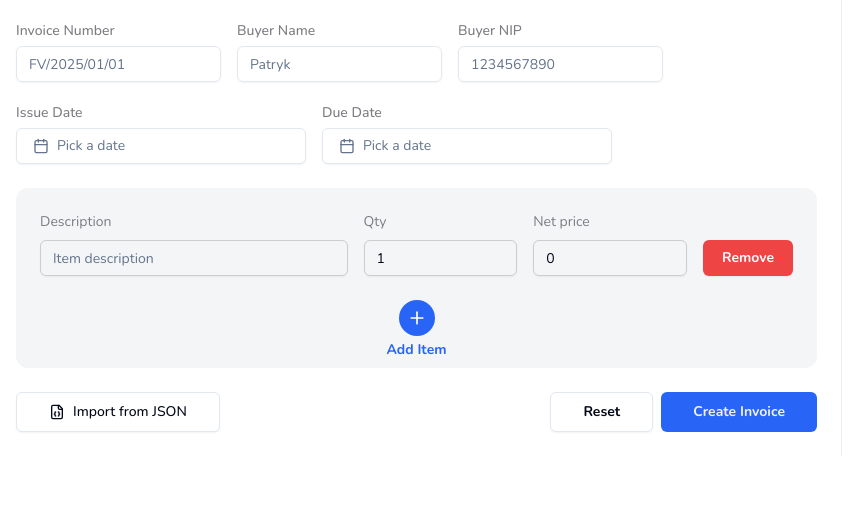
it: InvoiceForm › adds and removes items
The width and height of the screenshot is (859, 517).
Click the 4th button. click: {"x": 416, "y": 318}
box: top-left (398, 300), bottom-right (434, 336)
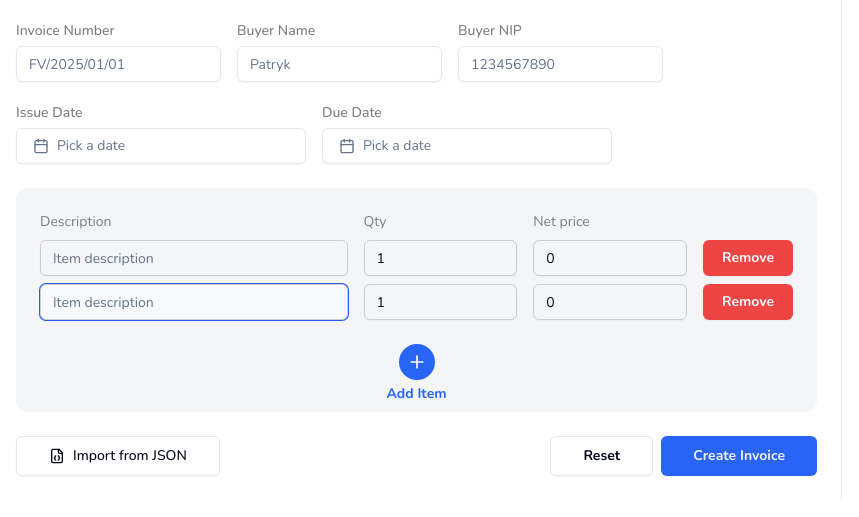
Click the 1st button "Remove". click: {"x": 748, "y": 258}
box: top-left (703, 240), bottom-right (793, 276)
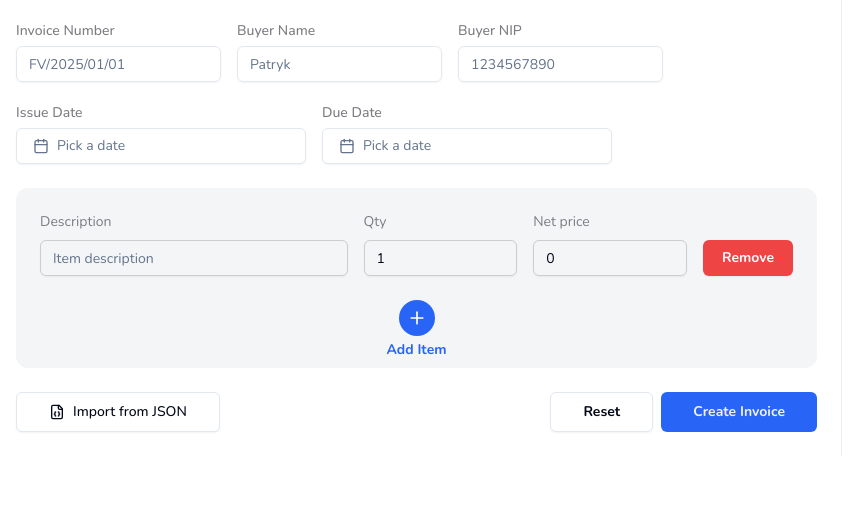
Click the button "Remove". click: {"x": 748, "y": 258}
box: top-left (703, 240), bottom-right (793, 276)
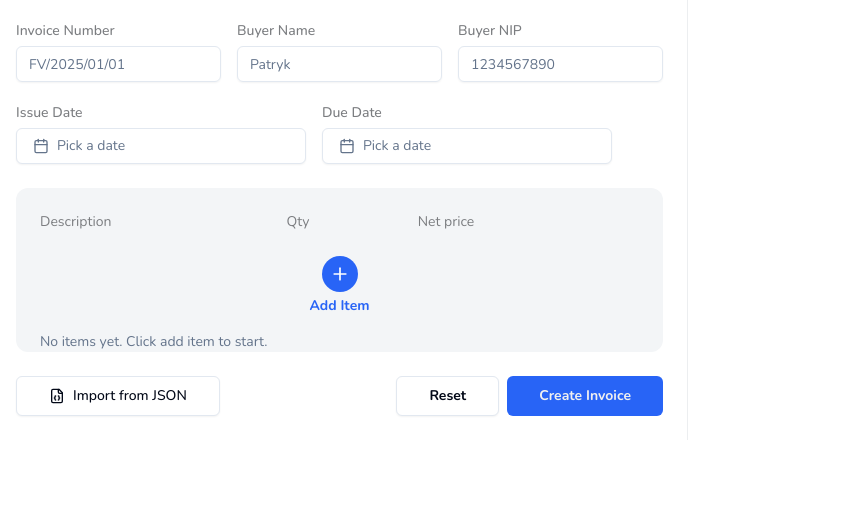
Expected: the text "No items yet. Click add item to start." is shown, top-left (40, 332), bottom-right (267, 351)
